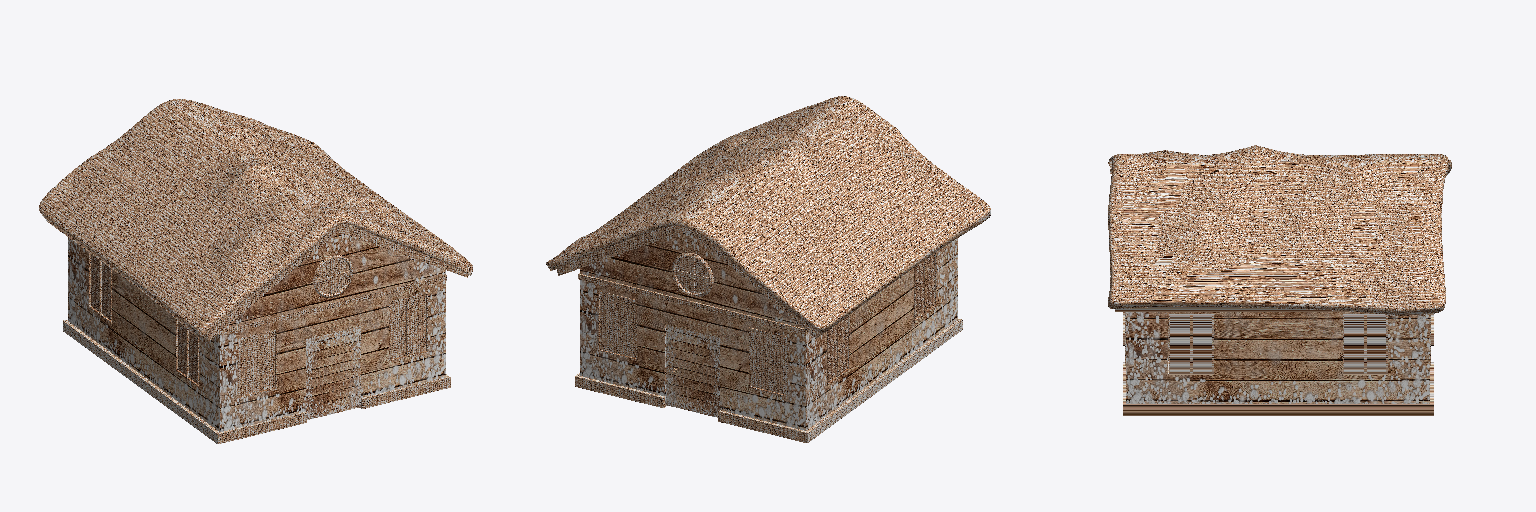
3 views of the same model, side by side, from view 1: azimuth 30°, elevation 25°; view 2: azimuth 150°, elevation 25°; view 3: azimuth 270°, elevation 25° (orthographic).
Parts seen in each view (by area): view 1: Snow; view 2: Snow; view 3: Snow.
Boxes of the visible parts, x1=… form: Snow: x1=39, y1=99, x2=472, y2=443; Snow: x1=546, y1=96, x2=990, y2=442; Snow: x1=1108, y1=145, x2=1451, y2=415.
Size of the model in its own units: 20.94 by 14.54 by 22.07.
1 materials, 1 textured.